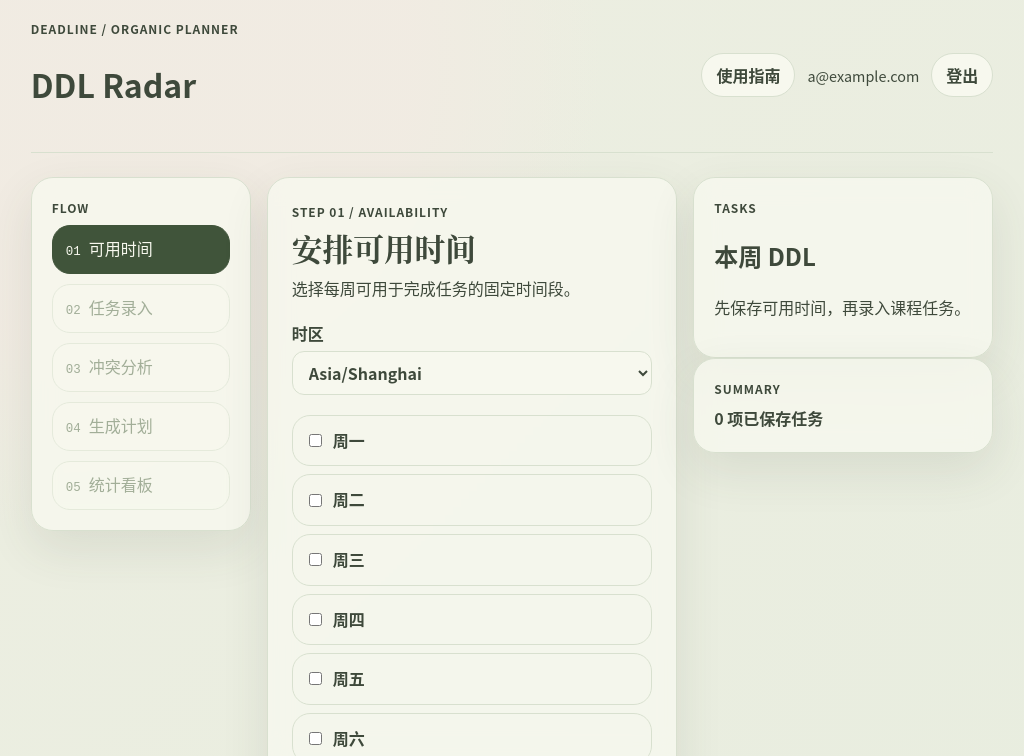
Test: input flow navigation › unlocks task entry only after a saved availability interval
This screenshot has width=1024, height=756.
Expected: the button "02任务录入" is disabled, top-left (52, 284), bottom-right (230, 333)
Click the checkbox labelled "周一" at (315, 440), box top-left (309, 434), bottom-right (322, 447)
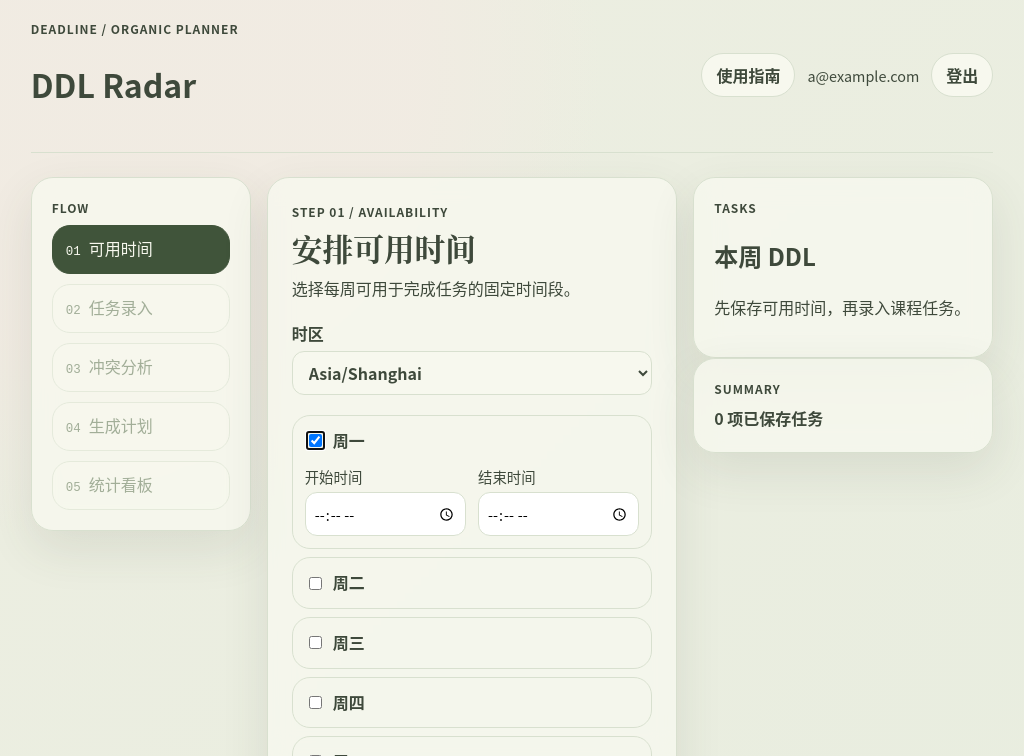
Type "18:00" into the time field labelled "开始时间" at (385, 514), box top-left (305, 492), bottom-right (466, 536)
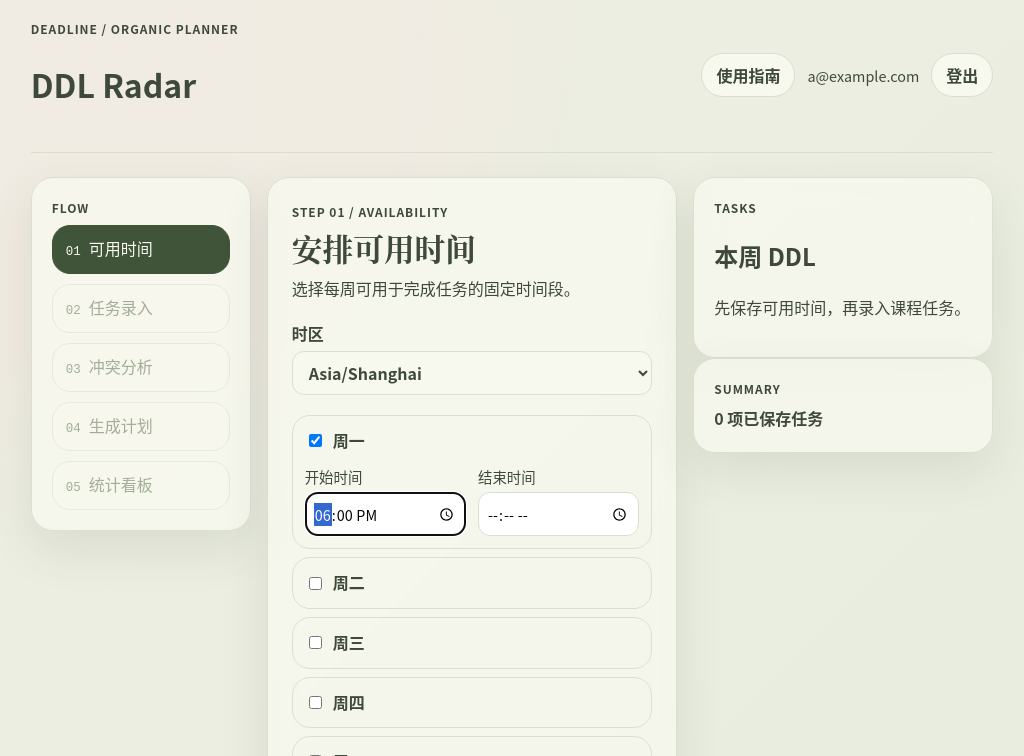
Type "21:00" into the time field labelled "结束时间" at (559, 514), box top-left (478, 492), bottom-right (639, 536)
(page scrolled)
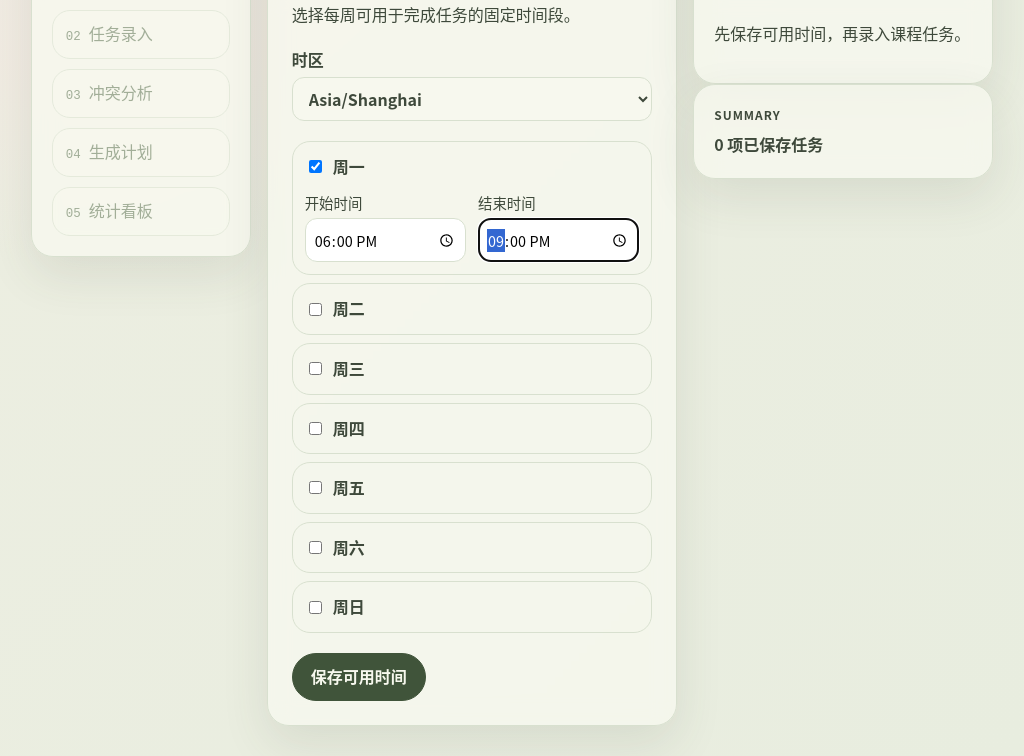
Click the button "保存可用时间" at (359, 677), box top-left (292, 653), bottom-right (426, 700)
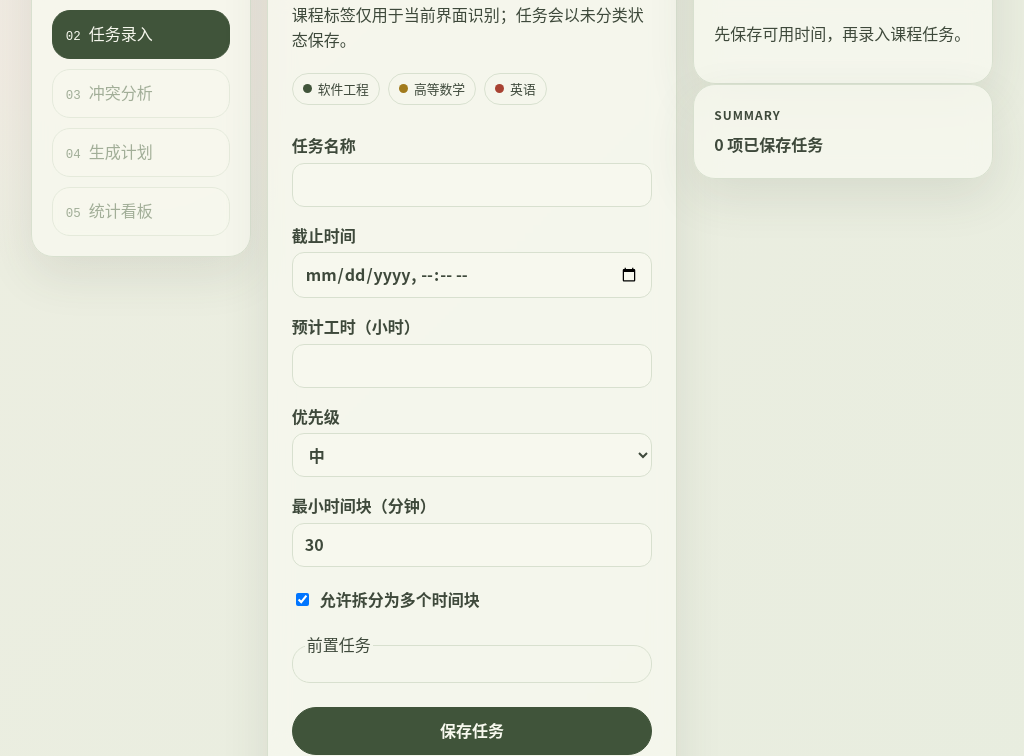
Expected: the button "03冲突分析" is disabled, top-left (52, 69), bottom-right (230, 118)
Expected: the button "02任务录入" is enabled, top-left (52, 10), bottom-right (230, 59)
